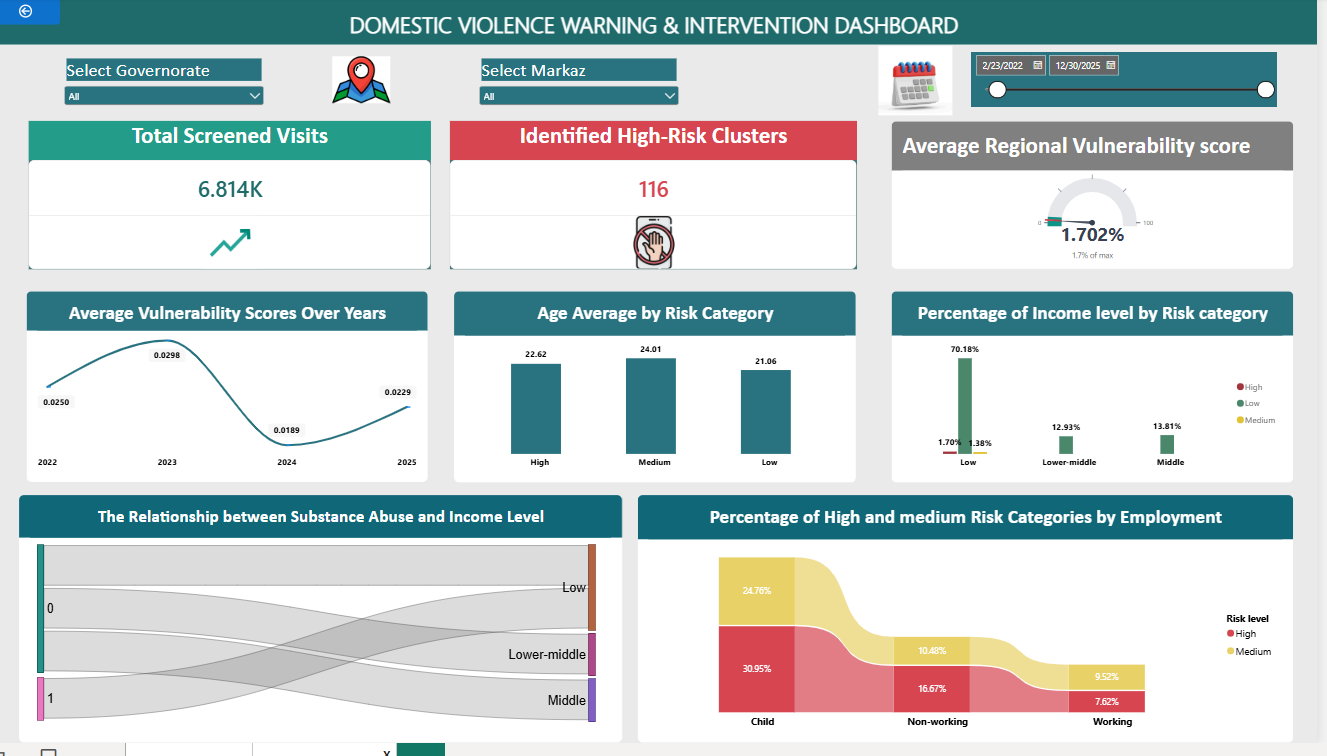

The page's visual inventory and layout, read from the dashboard file:
{"tool":"powerbi","page":{"name":"Demographic ","canvas":[1920,1080],"ordinal":1},"visuals":[{"type":"textbox","box":[0,0,1920.1,68.8],"z":0},{"type":"cardVisual","title":"Total Screened Visits","fields":{"Data":["CountNonNull(hayah_karima_decision_support_data.visit_id)"]},"box":[53.5,179.1,582.7,215.3],"z":1000},{"type":"cardVisual","title":"Identified High-Risk Clusters","fields":{"Data":["hayah_karima_decision_support_data.highRisk"]},"box":[664.8,179.1,589.9,215.3],"z":2000},{"type":"briqlabGauge987E35659DC14F58A6C5699632F5E2E8","title":"Average Regional Vulnerability score","fields":{"minValue":["hayah_karima_decision_support_data.minScore"],"maxValue":["hayah_karima_decision_support_data.maxScore"],"measure":["hayah_karima_decision_support_data.High Risk Ratio"],"target":["hayah_karima_decision_support_data.target"]},"box":[1302.9,179.1,583,215],"z":3000},{"type":"slicer","fields":{"Values":["hayah_karima_decision_support_data.governorate"]},"box":[100.9,88.5,298.5,70],"z":4000},{"type":"slicer","fields":{"Values":["hayah_karima_decision_support_data.markaz"]},"box":[701.9,88.5,298.5,70],"z":5000},{"type":"slicer","fields":{"Values":["hayah_karima_decision_support_data.visit_date"]},"box":[1418.2,80.3,442.5,78.2],"z":6000},{"type":"image","box":[494,78.2,84.4,84.4],"z":7000},{"type":"image","box":[1255.6,70,164.7,100.9],"z":8000},{"type":"lineChart","title":"Average Vulnerability Scores Over Years","fields":{"Category":["hayah_karima_decision_support_data.visit_date.Variation.Date Hierarchy.Year"],"Y":["Avg(hayah_karima_decision_support_data.final_risk_score)"]},"box":[50.7,425.3,582.5,277.9],"z":9000},{"type":"clusteredColumnChart","title":"Age Average by Risk Category","fields":{"Category":["hayah_karima_decision_support_data.final_severity_level"],"Y":["Avg(hayah_karima_decision_support_data.age_at_registration)"]},"box":[669.6,425.3,583,278],"z":10000},{"type":"clusteredColumnChart","title":"Percentage of Income level by Risk category","fields":{"Category":["hayah_karima_decision_support_data.income_level"],"Series":["hayah_karima_decision_support_data.final_severity_level"],"Y":["CountNonNull(hayah_karima_decision_support_data.final_severity_level)"]},"box":[1302.9,426.1,583,278],"z":11000},{"type":"sankey02300D1BE6F5427989F3DE31CCA9E0F32020","title":"The Relationship between Substance Abuse and Income Level","fields":{"Source":["hayah_karima_decision_support_data.has_substance_use_flag"],"Destination":["hayah_karima_decision_support_data.income_level"]},"box":[39.8,720.2,874.1,360.1],"z":12000},{"type":"actionButton","box":[0,0,100,40],"z":13000},{"type":"columnChart","title":"Percentage of High and medium Risk Categories by Employment","fields":{"Category":["hayah_karima_decision_support_data.employment_status"],"Series":["hayah_karima_decision_support_data.final_severity_level"],"Y":["CountNonNull(hayah_karima_decision_support_data.employment_status)"]},"box":[935.6,720.2,950.1,360.1],"z":14000}]}

Visuals, with their boxes in screenshot pixels (x1, y1, x2, y2):
textbox: [0,38,1309,85]
"Total Screened Visits" cardVisual: [36,160,434,307]
"Identified High-Risk Clusters" cardVisual: [453,160,855,307]
"Average Regional Vulnerability score" briqlabGauge987E35659DC14F58A6C5699632F5E2E8: [888,160,1285,307]
slicer - hayah_karima_decision_support_data.governorate: [69,98,272,146]
slicer - hayah_karima_decision_support_data.markaz: [478,98,682,146]
slicer - hayah_karima_decision_support_data.visit_date: [967,93,1268,146]
image: [337,91,394,149]
image: [856,86,968,154]
"Average Vulnerability Scores Over Years" lineChart: [35,328,432,517]
"Age Average by Risk Category" clusteredColumnChart: [456,328,854,517]
"Percentage of Income level by Risk category" clusteredColumnChart: [888,328,1285,518]
"The Relationship between Substance Abuse and Income Level" sankey02300D1BE6F5427989F3DE31CCA9E0F32020: [27,529,623,755]
actionButton: [0,38,68,65]
"Percentage of High and medium Risk Categories by Employment" columnChart: [638,529,1285,755]
